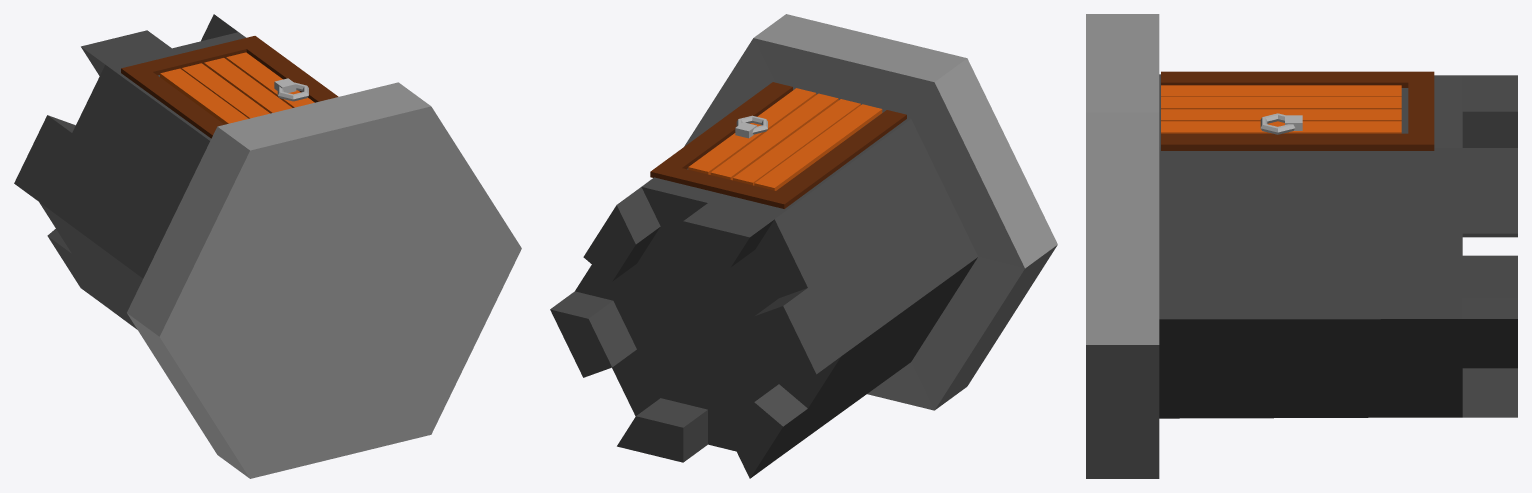
File: tower_1_lifes.fbx
3 views of the same model, side by side, from view 1: azimuth 30°, elevation 25°; view 2: azimuth 150°, elevation 25°; view 3: azimuth 270°, elevation 25° (orthographic). The views are drawn at different scales.
Parts seen in each view (by area): view 1: Cylinder.002; view 2: Cylinder.002; view 3: Cylinder.002.
Boxes of the visible parts, <box> form: Cylinder.002: <box>14,14,521,478</box>; Cylinder.002: <box>550,14,1057,478</box>; Cylinder.002: <box>1086,14,1517,478</box>.
Bounding box in the file's own units: 539 × 466 × 498.
